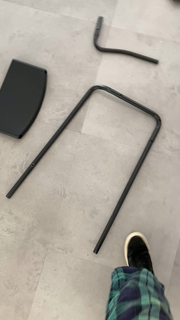L pipe: (91, 14, 162, 69)
U pipe: (2, 84, 165, 257)
